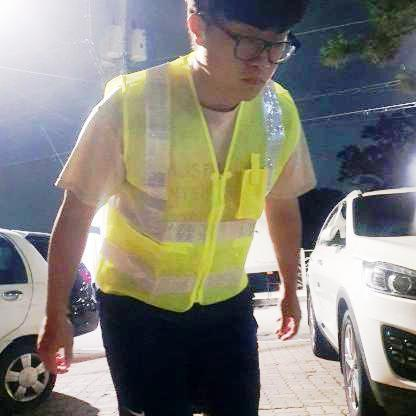no-helmet: (183, 0, 303, 52)
vest: (105, 50, 300, 311)
